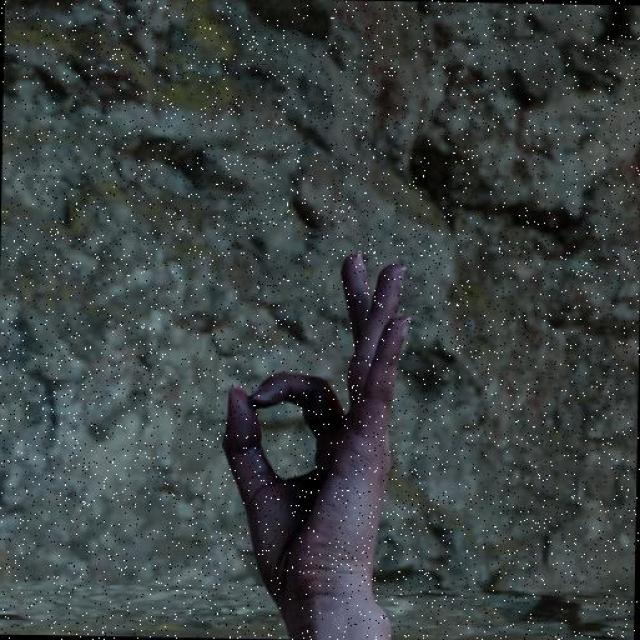F: (215, 245, 415, 597)
